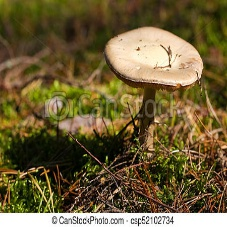mushroom: (102, 27, 207, 168)
